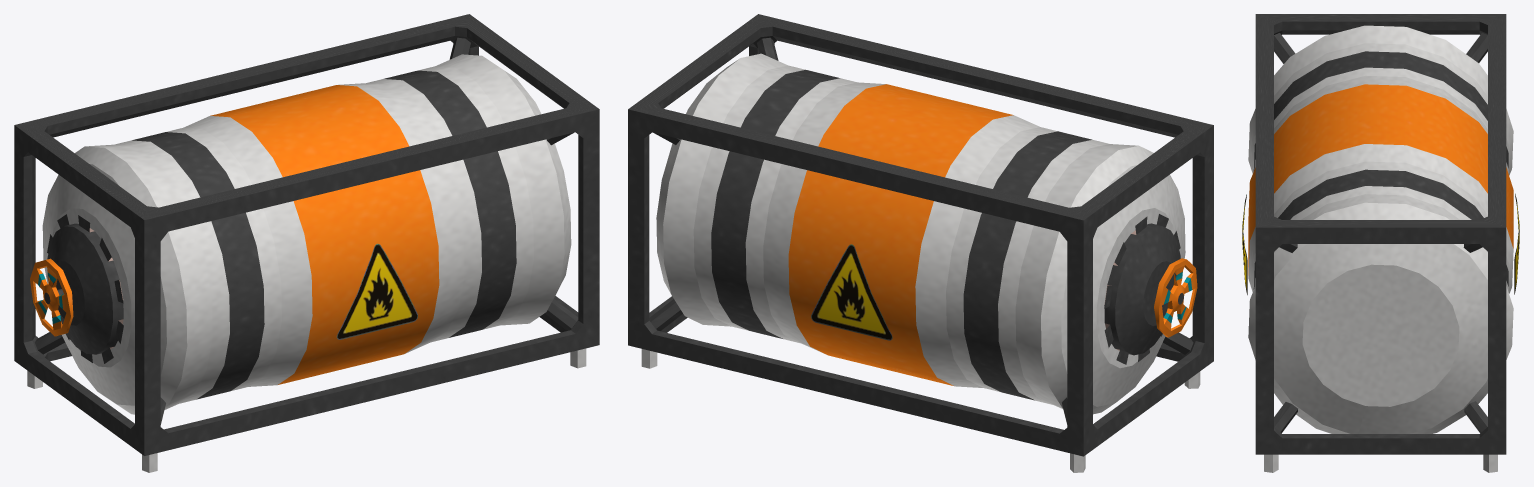
The model's file is Barrel_2_LOD1.fbx.
The picture shows the model from 3 angles, left to right: view 1: azimuth 30°, elevation 25°; view 2: azimuth 150°, elevation 25°; view 3: azimuth 270°, elevation 25°; orthographic projection. The views are drawn at different scales.
Visible parts, largest first — view 1: Barrel_2_LOD1; view 2: Barrel_2_LOD1; view 3: Barrel_2_LOD1.
Part boxes in pixels (left/top/right/bottom): Barrel_2_LOD1: left=14, top=14, right=599, bottom=472; Barrel_2_LOD1: left=628, top=14, right=1213, bottom=472; Barrel_2_LOD1: left=1242, top=14, right=1519, bottom=472.
Bounding box in the file's own units: 620 × 322 × 317.
